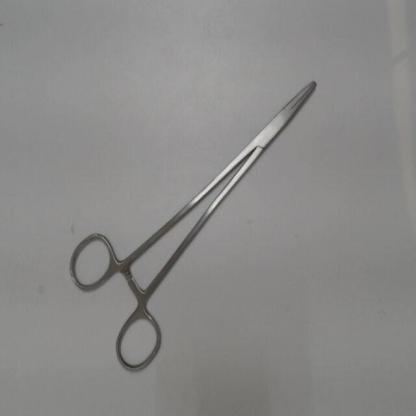8 Mayo Needle Holder: (57, 66, 334, 386)
